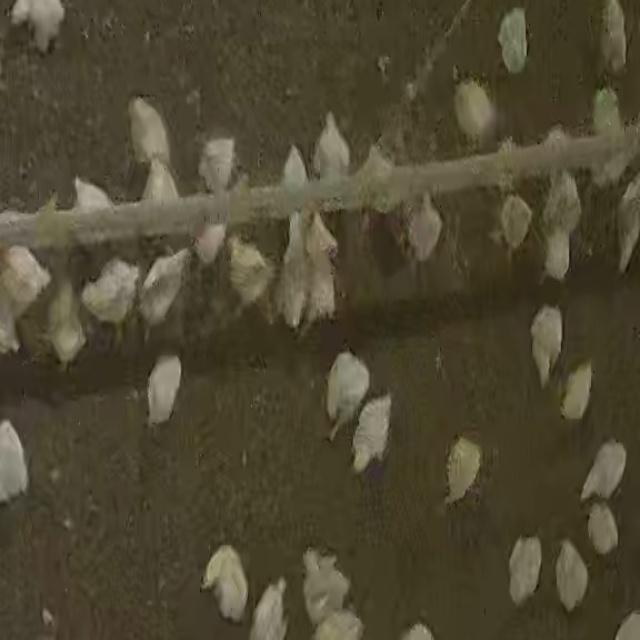chicken: (224, 232, 278, 328), (78, 254, 138, 338), (196, 538, 252, 624), (324, 347, 372, 441), (139, 249, 192, 332), (141, 349, 185, 431), (126, 95, 174, 170), (350, 394, 394, 474), (442, 433, 483, 509), (578, 441, 626, 505), (529, 306, 564, 392), (453, 79, 497, 143), (0, 418, 31, 506), (508, 535, 544, 607), (406, 192, 442, 264), (314, 110, 352, 178), (554, 540, 589, 612), (248, 579, 288, 640), (198, 136, 238, 197), (499, 192, 533, 255), (559, 361, 593, 422), (585, 500, 619, 556)
